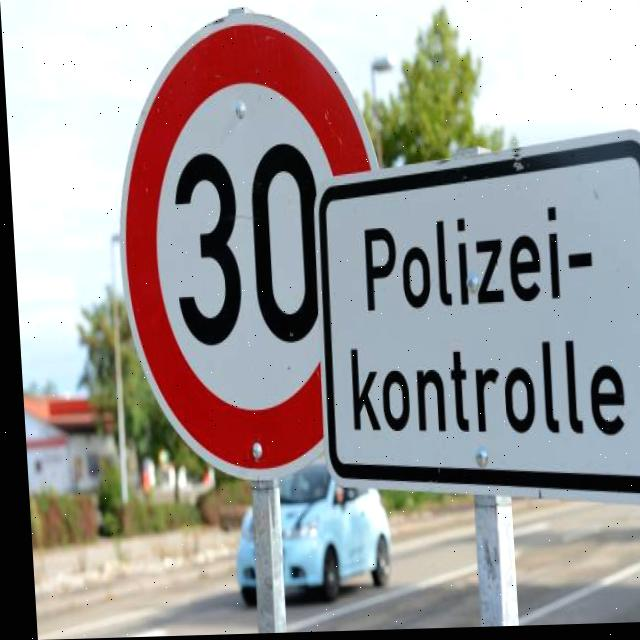Speed limit 30: (104, 6, 394, 488)
